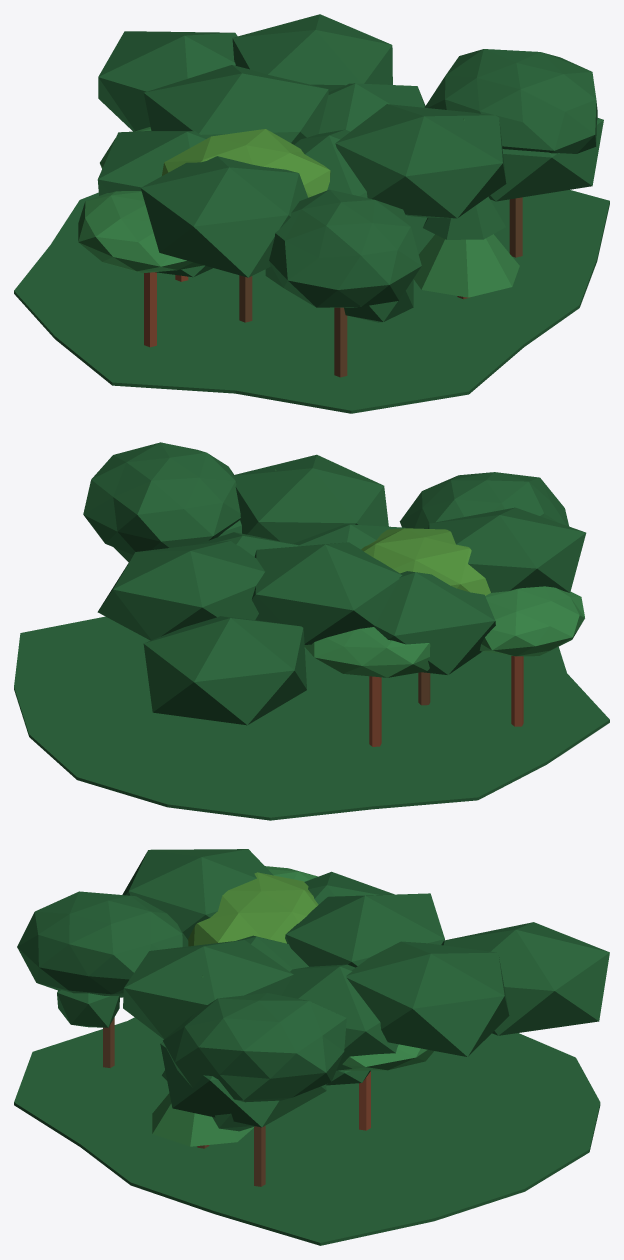
Rendered from forest_block.glb.
3 renders of one model, top to bottom at view 1: azimuth 30°, elevation 25°; view 2: azimuth 150°, elevation 25°; view 3: azimuth 270°, elevation 25°, orthographic. The views are drawn at different scales.
Visible parts, largest first — view 1: forest_block; view 2: forest_block; view 3: forest_block.
Boxes of the visible parts, box(x1,y1,x2,y2) form: forest_block: box(14, 14, 609, 413); forest_block: box(14, 442, 609, 820); forest_block: box(14, 849, 609, 1245).
Bounding box in the file's own units: 18.85 × 6.36 × 18.17.
